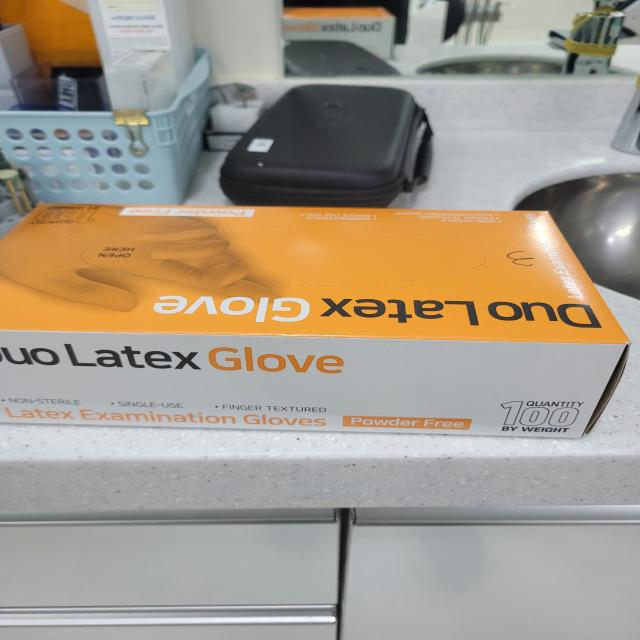glove: (0, 184, 640, 445)
